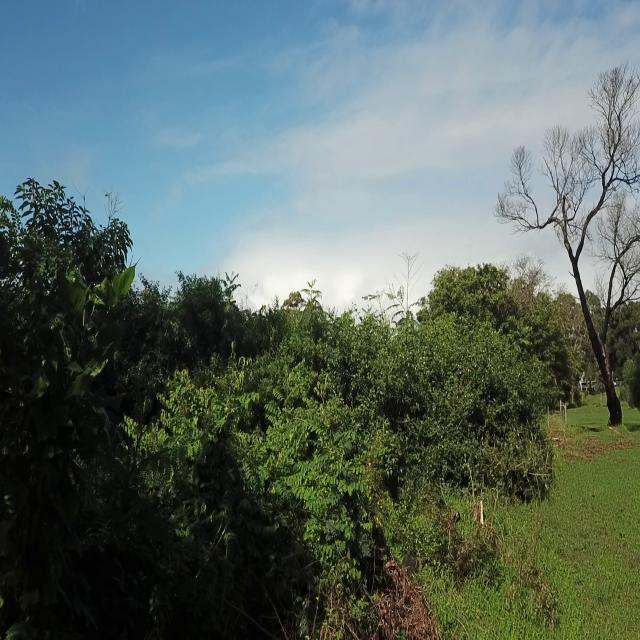Mysore-Thorn-Weed: (280, 379, 370, 590), (186, 349, 262, 453), (116, 390, 177, 518)
